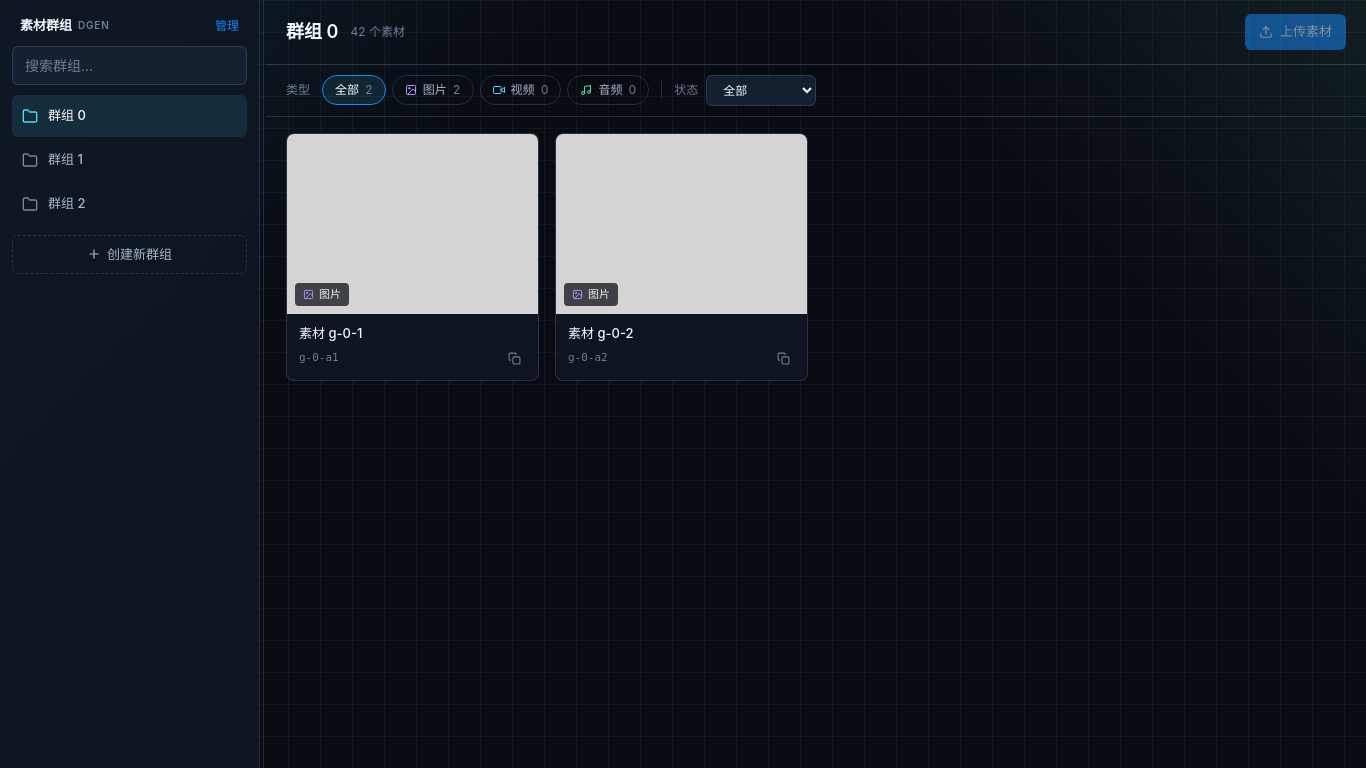
Test: selected-group asset count in the header › renders a real 0 for an empty group (not the loading placeholder)
Check: the element with test id "group-row-g-0" is shown, box [12,94,247,136]
Click the element with test id "group-row-g-2" at (54, 203), box [22,195,86,212]
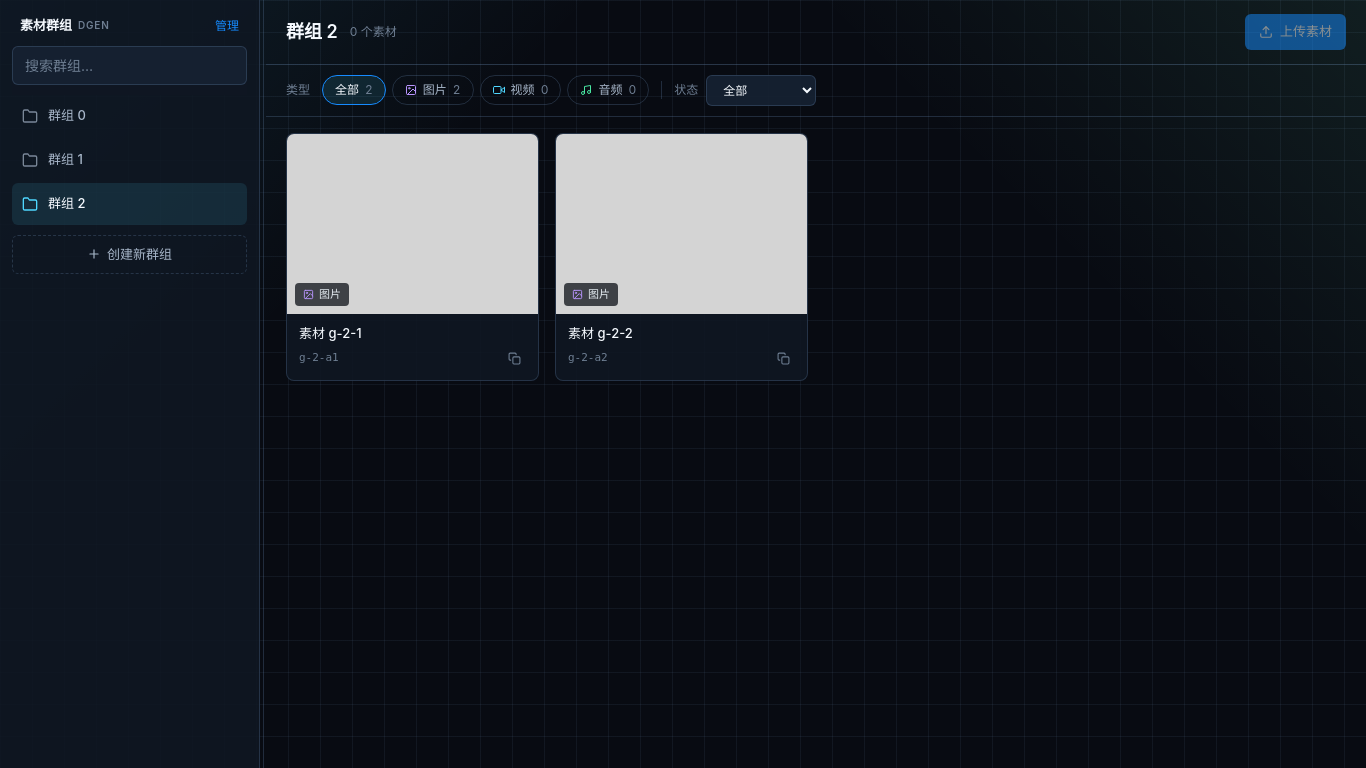
Check: the text "0 个素材" is shown, box [350,23,397,41]
